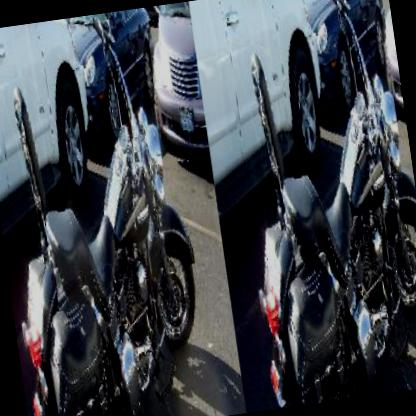motorcycle: (0, 5, 218, 415), (221, 12, 415, 409)
